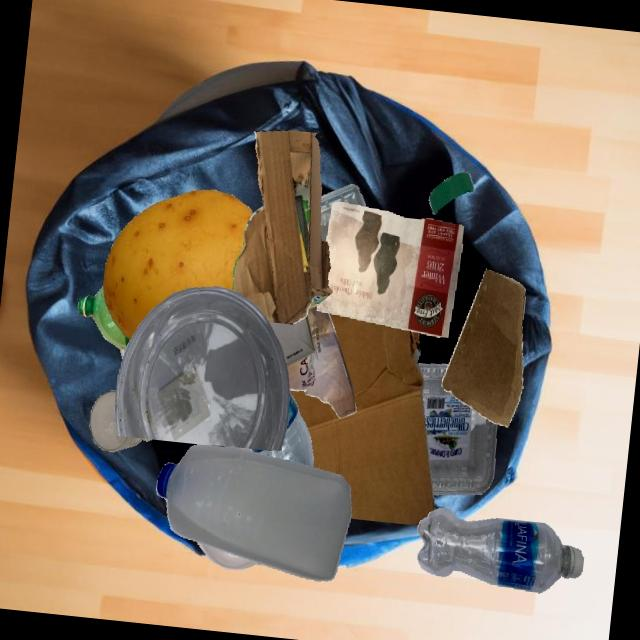biowaste: (102, 189, 253, 339)
cardboard: (289, 313, 434, 525), (232, 130, 332, 324), (441, 268, 525, 427)
glass: (89, 390, 142, 451)
paper: (316, 202, 463, 336), (120, 348, 285, 439), (286, 305, 356, 418)
plastic: (114, 286, 289, 450), (156, 445, 351, 581), (417, 508, 583, 593), (417, 363, 497, 494), (249, 390, 313, 467), (77, 286, 130, 349), (320, 184, 365, 241), (429, 171, 474, 214), (196, 541, 258, 569)
